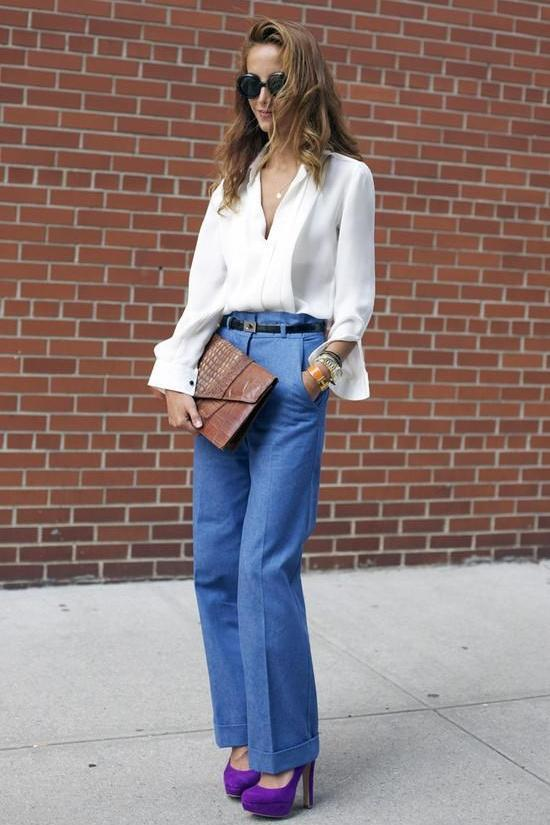pants: (191, 314, 330, 774)
shirt: (148, 129, 376, 404)
